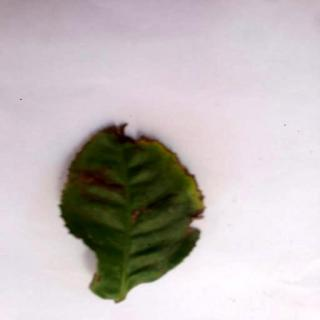Algal Leaf: (64, 125, 205, 303)
